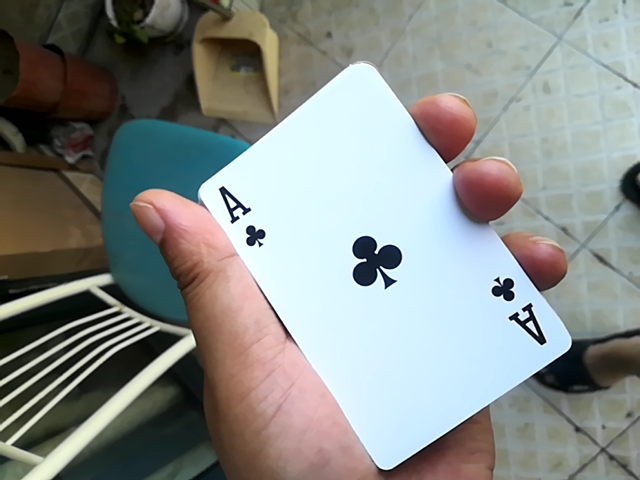mh a: (176, 59, 563, 471)
